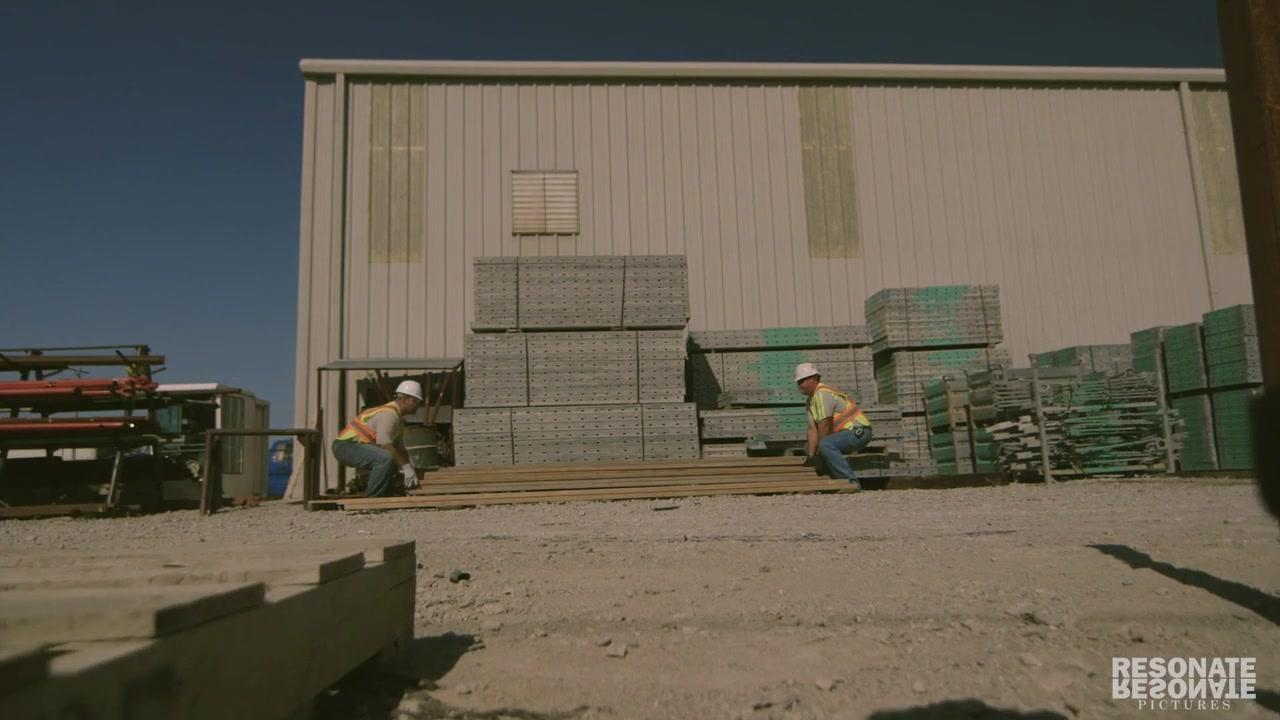vest: (804, 384, 874, 431), (331, 402, 398, 443)
